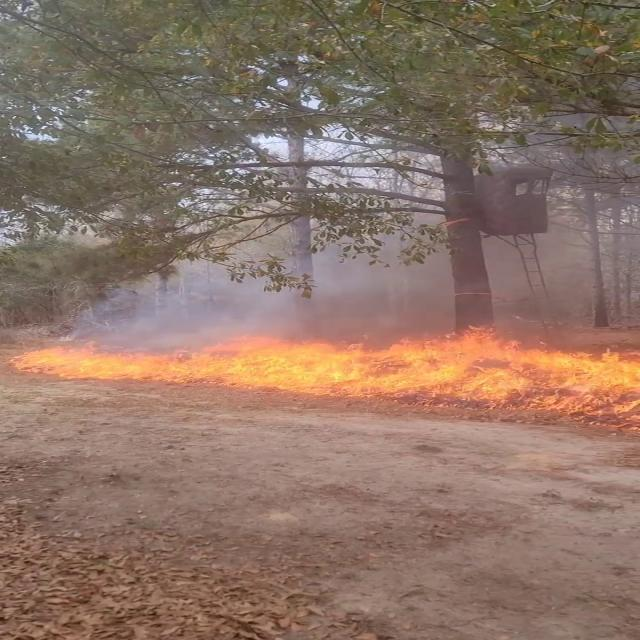Fire: (9, 329, 638, 394)
Smoke: (73, 218, 640, 343)
